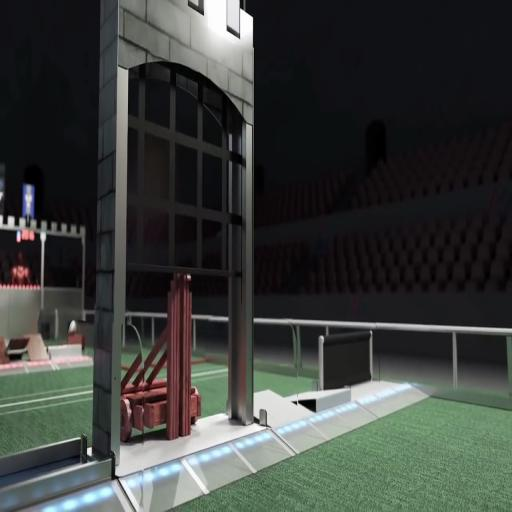robot: (120, 272, 210, 441)
